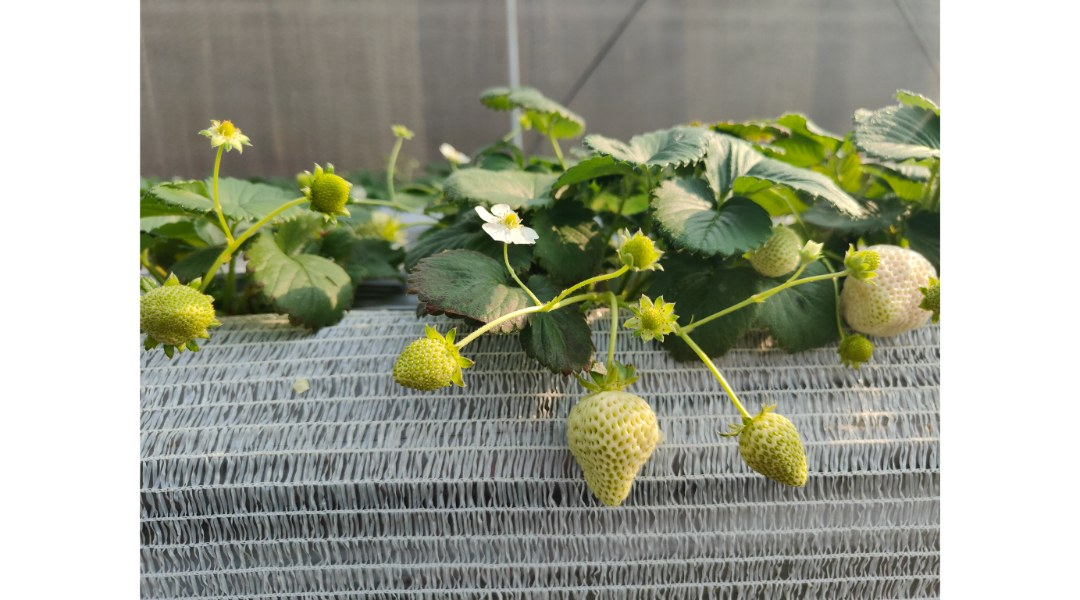berry: (559, 368, 668, 523), (836, 237, 953, 341), (135, 261, 223, 358), (735, 404, 812, 495), (395, 318, 477, 396), (294, 155, 354, 229), (741, 219, 800, 275), (612, 225, 680, 272), (623, 290, 680, 344), (836, 327, 876, 377), (846, 243, 876, 288)
flower: (466, 199, 544, 252), (192, 118, 257, 153)
strain: (674, 274, 837, 331), (207, 197, 294, 292), (685, 344, 753, 418), (456, 298, 532, 343), (496, 246, 543, 304), (206, 148, 231, 235), (607, 295, 624, 367)
